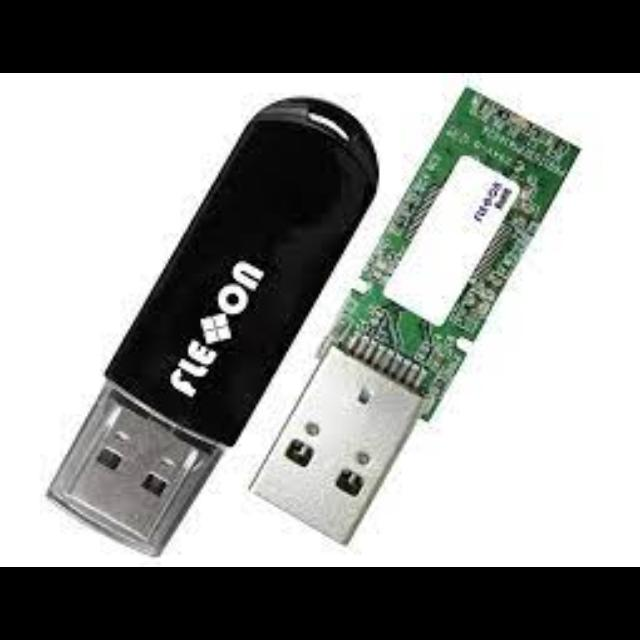USB-Flash-Drive: (50, 98, 376, 556)
